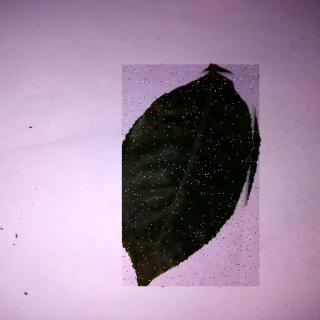Bird Eye Spot: (123, 66, 260, 288)
